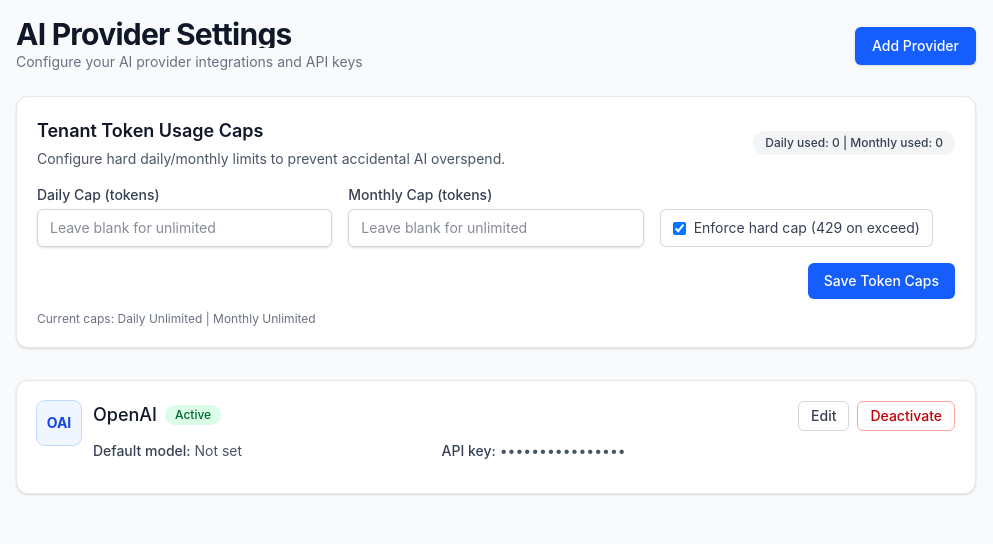
Scenario: AI Provider Settings error states › renders an inline row error when deactivation fails
Check: the heading "AI Provider Settings" is shown, box [16,16,292,52]
What coordinates should you click on to do the following:
click the button "Deactivate"
I would click on:
 (906, 416)
Its box is [858,401,955,431].
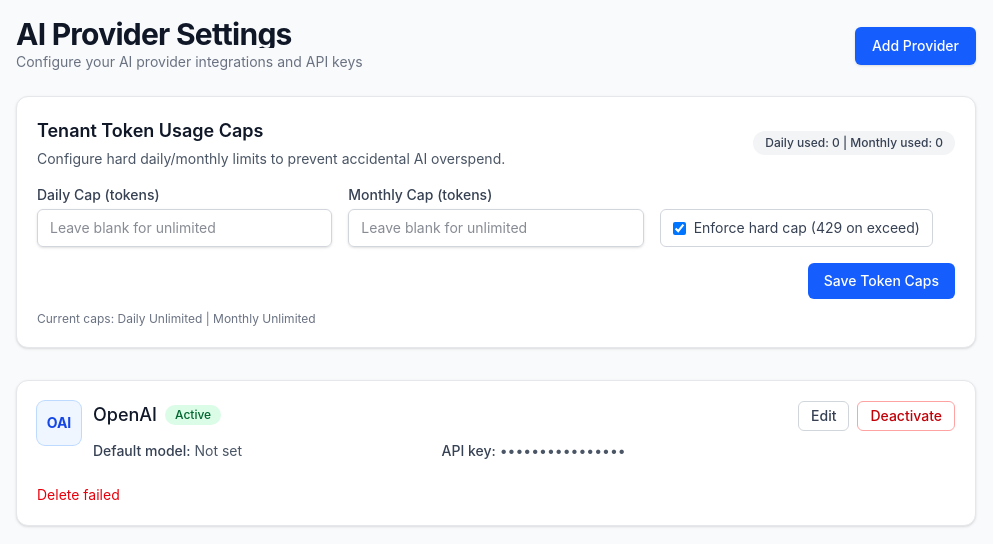
Check: the text "Delete failed" is shown, box [37,486,120,503]
